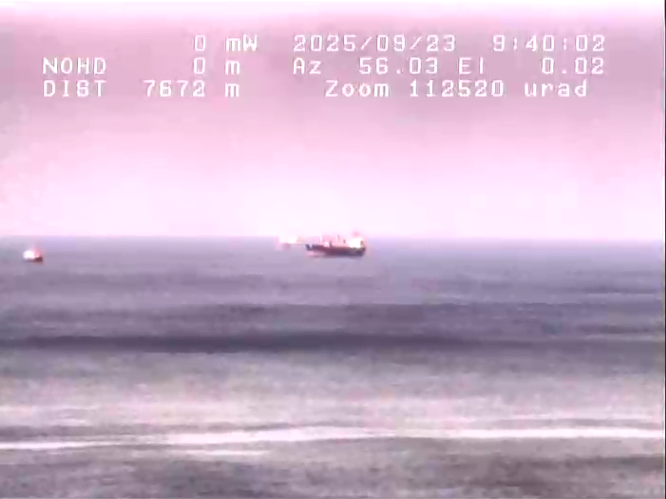TANKER: (294, 225, 385, 268), (14, 236, 57, 274)
